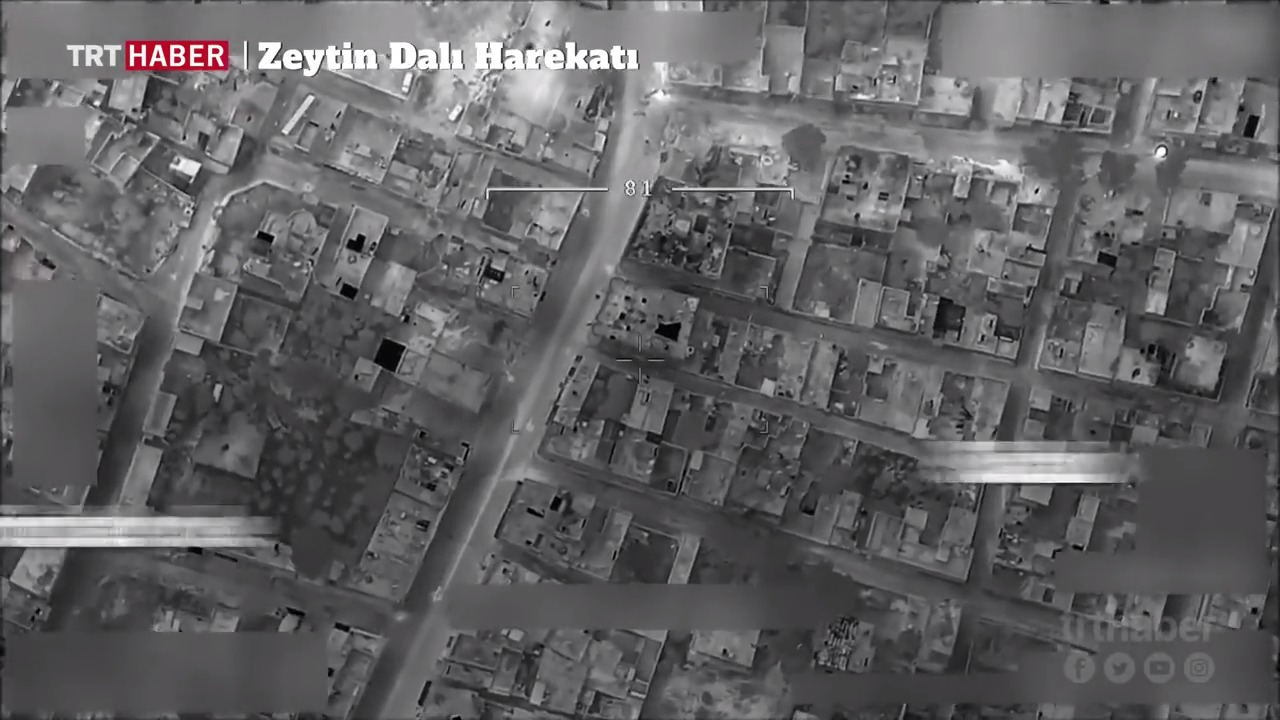bina: (816, 139, 933, 237), (314, 205, 395, 303), (1166, 330, 1240, 398)
